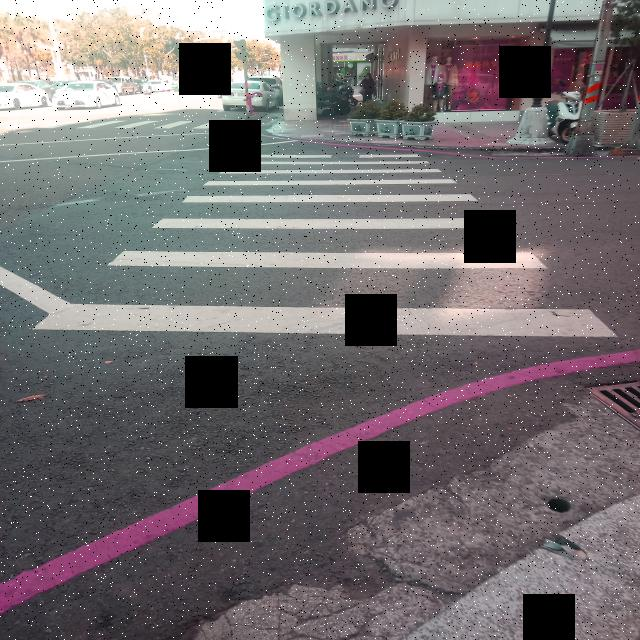zebra_crossing: (31, 152, 623, 339), (64, 121, 224, 130)
